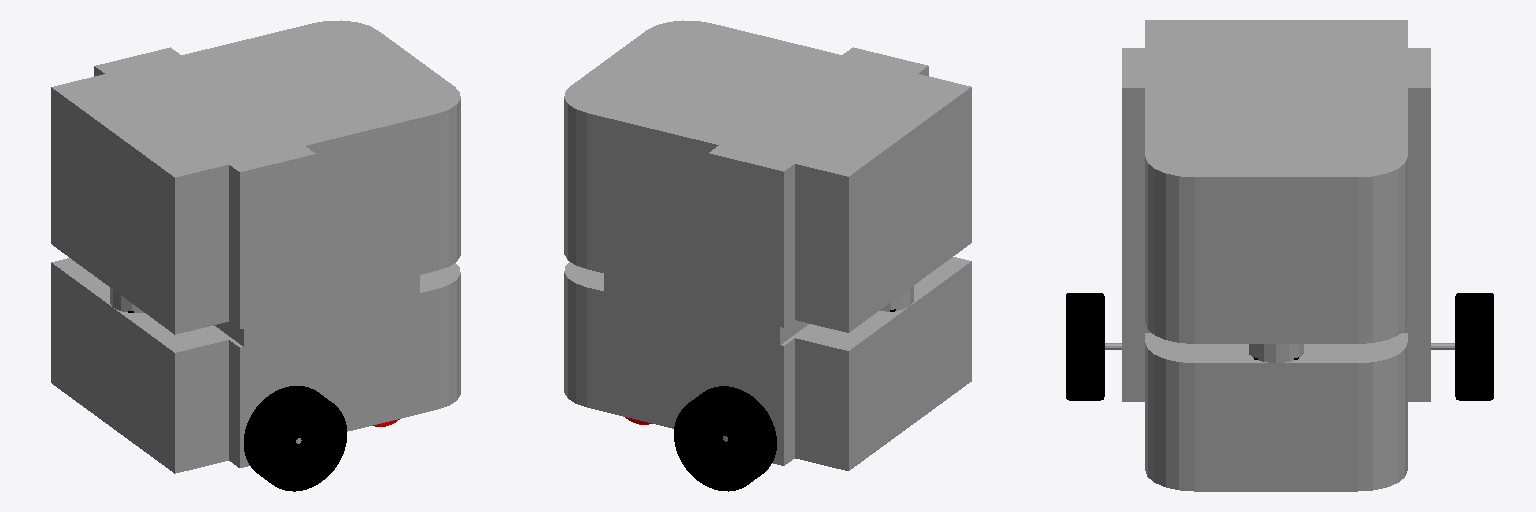
robot.urdf — myrobot:
<?xml version="1.0" ?>
<robot name="myrobot">
    <material name="white">
        <color rgba="1 1 1 1" />
    </material>
    <material name="bone">
        <color rgba="0.8 0.8 0.8 1" />
    </material>
    <material name="orange">
        <color rgba="1 0.3 0.1 1"/>
    </material>
    <material name="gray">
        <color rgba="0.7 0.7 0.7 1"/>
    </material>
    <material name="blue">
        <color rgba="0.2 0.2 1 1"/>
    </material>
    <material name="black">
        <color rgba="0 0 0 1"/>
    </material>
    <material name="red">
        <color rgba="1 0 0 1"/>
    </material>

    <!-- Base link -->
    <link name="base_link">
        <inertial>
            <origin xyz="0.00777178436482716 -1.12354729039397E-17 0.246949943244965" rpy="0 0 0" />
            <mass value="96.0948572509794" />
            <inertia ixx="3.14245232437096" ixy="0.0" ixz="0.0161471407091991" iyy="4.0258724967387" iyz="0.0" izz="3.27945603833626" />
        </inertial>
        <visual>
            <origin xyz="0 0 0" rpy="0 0 3.14159" />
            <geometry>
                <mesh filename="package://articubot_one/meshes/base_link.STL" />
            </geometry>
            <material name="gray"/>
        </visual>
    </link>


    <!-- Base footprint -->
    <link
    name="base_footprint">
    </link>
    <joint
        name="base_footprint_joint"
        type="fixed">
        <origin
        xyz="0 0 -0.0245"
        rpy="0 0 0" />
        <parent
        link="base_link" />
        <child
        link="base_footprint" />
        <axis
        xyz="0 0 0" />
    </joint>

    <!-- Right wheel -->
    <link name="right_wheel">
        <inertial>
            <origin xyz="0.10293 0.271206927284633 0.0555" rpy="1.570795 0 0" />
            <mass value="0.653369098308289" />
            <inertia ixx="0.00138427900772175" ixy="1.30693402906786E-19" ixz="-5.71625798942975E-21" iyy="0.0024820518753049" iyz="2.82402881651372E-20" izz="0.00138427900772175" />
        </inertial>
        <visual>
            <origin xyz="0.10293 0.0555 0.271206927284633" rpy="-1.570795 0 3.14159" />
            <geometry>
                <mesh filename="package://articubot_one/meshes/right_wheel.STL" />
            </geometry>
            <material name="black"/>
        </visual>
    </link>
    <joint name="right_wheel_joint" type="continuous">
        <origin xyz="-0.10293 -0.271206927284633 0.0555" rpy="-1.570795 0 0" />
        <parent link="base_link" />
        <child link="right_wheel" />
        <axis xyz="0 0 1" /> 
    </joint>

    <!-- Left wheel -->
    <link name="left_wheel">
        <inertial>
            <origin xyz="0.10293 -0.279993072715367 0.0555" rpy="0 0 0" />
            <mass value="0.653369098308289" />
            <inertia ixx="0.00138427900772175" ixy="2.72500195003145E-19" ixz="-2.12924816093808E-20" iyy="0.0024820518753049" iyz="-6.74640785923201E-21" izz="0.00138427900772175" />
        </inertial>
        <visual>
            <origin xyz="0.10293 0.0555 -0.279993072715367" rpy="-1.570795 0 3.14159" />
            <geometry>
                <mesh filename="package://articubot_one/meshes/left_wheel.STL" />
            </geometry>
            <material name="black"/>
        </visual>
    </link>
    <joint name="left_wheel_joint" type="continuous">
        <origin xyz="-0.10293 0.279993072715367 0.0555" rpy="-1.570795 0 0" />
        <parent link="base_link" />
        <child link="left_wheel" />
        <axis xyz="0 0 1" />
    </joint>

    <!-- Caster wheels -->
    <link name="caster_wheel_left">
        <inertial>
            <origin xyz="-0.1163 -0.1508 0.02242" rpy="0 0 0" />
            <mass value="0.156987742973928" />
            <inertia ixx="8.82316172591817E-05" ixy="6.84650465930315E-21" ixz="8.231219130141E-21" iyy="0.000155620648655828" iyz="9.08354603331562E-22" izz="8.82316172591817E-05" />
        </inertial>
        <visual>
            <origin xyz="-0.1163 0.1508 0" rpy="0 0 3.14159" />
            <geometry>
                <mesh filename="package://articubot_one/meshes/caster_wheel_right.STL" />
            </geometry>
            <material name="red"/>
        </visual>
    </link>
    <joint name="caster_wheel_left_joint" type="fixed">
        <origin xyz="0.1163 0.1508 0" rpy="0 0 0" />
        <parent link="base_link" />
        <child link="caster_wheel_left" />
    </joint>

    <link name="caster_wheel_right">
        <inertial>
            <origin xyz="0 0.1508 0.02242" rpy="0 0 0" />
            <mass value="0.156987742973928" />
            <inertia ixx="8.82316172591817E-05" ixy="6.84650465930315E-21" ixz="8.231219130141E-21" iyy="0.000155620648655828" iyz="9.08354603331562E-22" izz="8.82316172591817E-05" />
        </inertial>
        <visual>
            <origin xyz="-0.1163 0.1508 0" rpy="0 0 3.14159" />
            <geometry>
                <mesh filename="package://articubot_one/meshes/caster_wheel_right.STL" />
            </geometry>
            <material name="red"/>
        </visual>
    </link>
    <joint name="caster_wheel_right_joint" type="fixed">
        <origin xyz="0.1163 -0.1508 0" rpy="0 0 0" />
        <parent link="base_link" />
        <child link="caster_wheel_right" />
    </joint>

    <!-- Laser frame 1 -->
    <link name="laser_frame_1">
        <visual>
            <origin xyz="0 0 0" rpy="0 0 0" />
            <geometry>
                <mesh filename="package://articubot_one/meshes/laser_frame.STL" />
            </geometry>
            <material name="black"/>
        </visual>
    </link>
    <joint name="laser_frame_1_joint" type="fixed">
        <origin xyz="-0.22 0 0.215" rpy="0 0 0" />
        <parent link="base_link" />
        <child link="laser_frame_1" />
    </joint>

    <!-- Laser frame 2 -->
    <link name="laser_frame_2">
        <visual>
            <origin xyz="0 0 0" rpy="0 0 0" />
            <geometry>
                <mesh filename="package://articubot_one/meshes/laser_frame.STL" />
            </geometry>
            <material name="black"/>
        </visual>
    </link>
    <joint name="laser_frame_2_joint" type="fixed">
        <origin xyz="0.22 0 0.215" rpy="0 0 3.14159" />
        <parent link="base_link" />
        <child link="laser_frame_2" />
    </joint>


</robot>

--- Render facts (derived) ---
The picture shows the robot from 3 angles, left to right: view 1: azimuth 30°, elevation 25°; view 2: azimuth 150°, elevation 25°; view 3: azimuth 270°, elevation 25°; orthographic projection.
Robot: myrobot — 8 links, 7 joints (2 continuous, 5 fixed); root link base_link; default pose: all joints at 0.
Links seen in each view (by area): view 1: base_link, right_wheel; view 2: base_link, left_wheel; view 3: base_link, right_wheel, left_wheel.
Link boxes in pixels (x1,y1,x2,y2): base_link: [51, 20, 460, 473]; right_wheel: [244, 386, 346, 491]; base_link: [564, 20, 971, 470]; left_wheel: [674, 386, 776, 491]; base_link: [1105, 20, 1454, 491]; right_wheel: [1066, 293, 1104, 400]; left_wheel: [1455, 293, 1493, 400].
Bounding box of the posed robot: 0.525 × 0.6062 × 0.5114 m (x, y, z).
Meshes: 5 distinct files referenced, 7 mesh visuals loaded (5 binary STL).